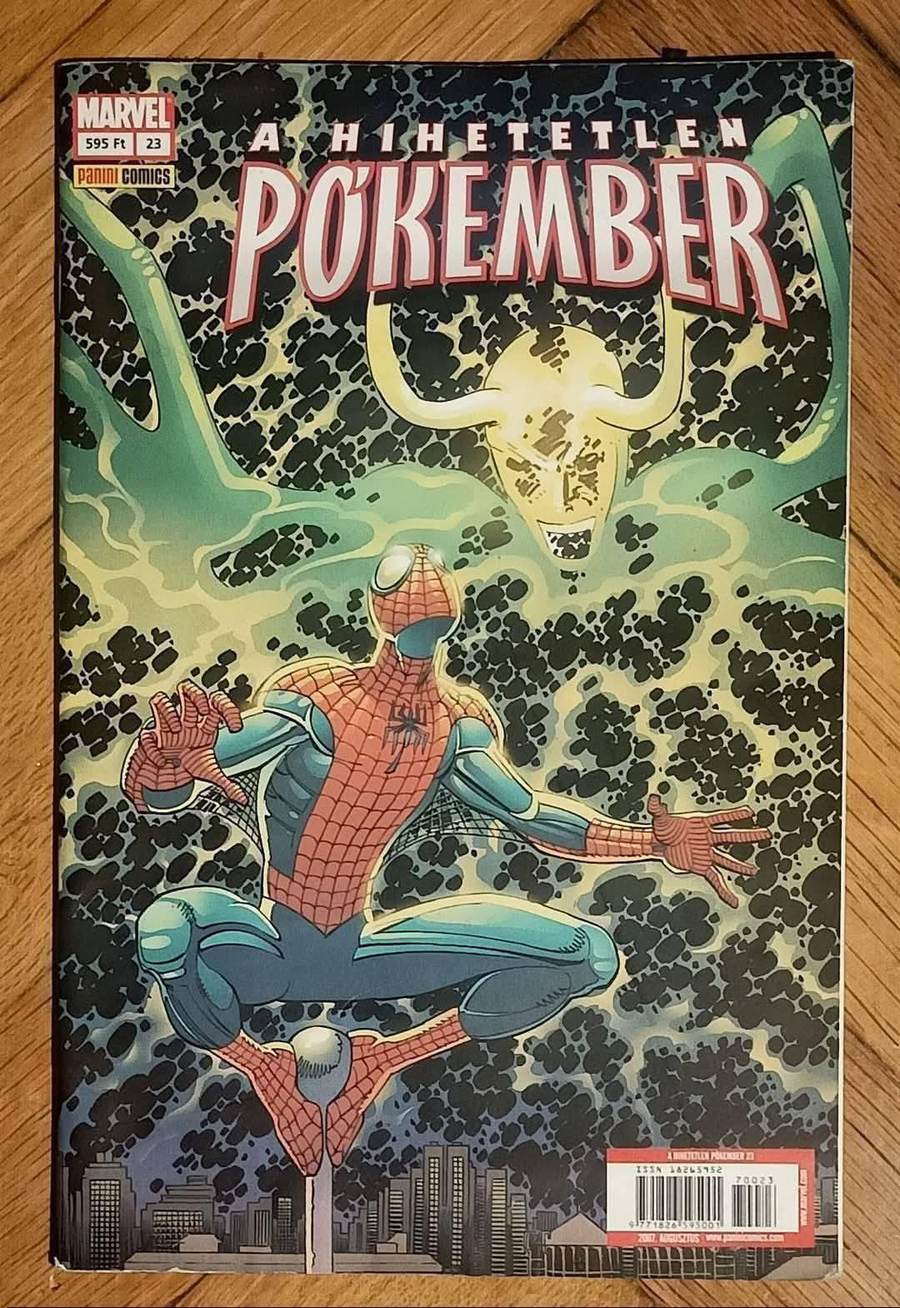comic: (52, 51, 851, 1278)
